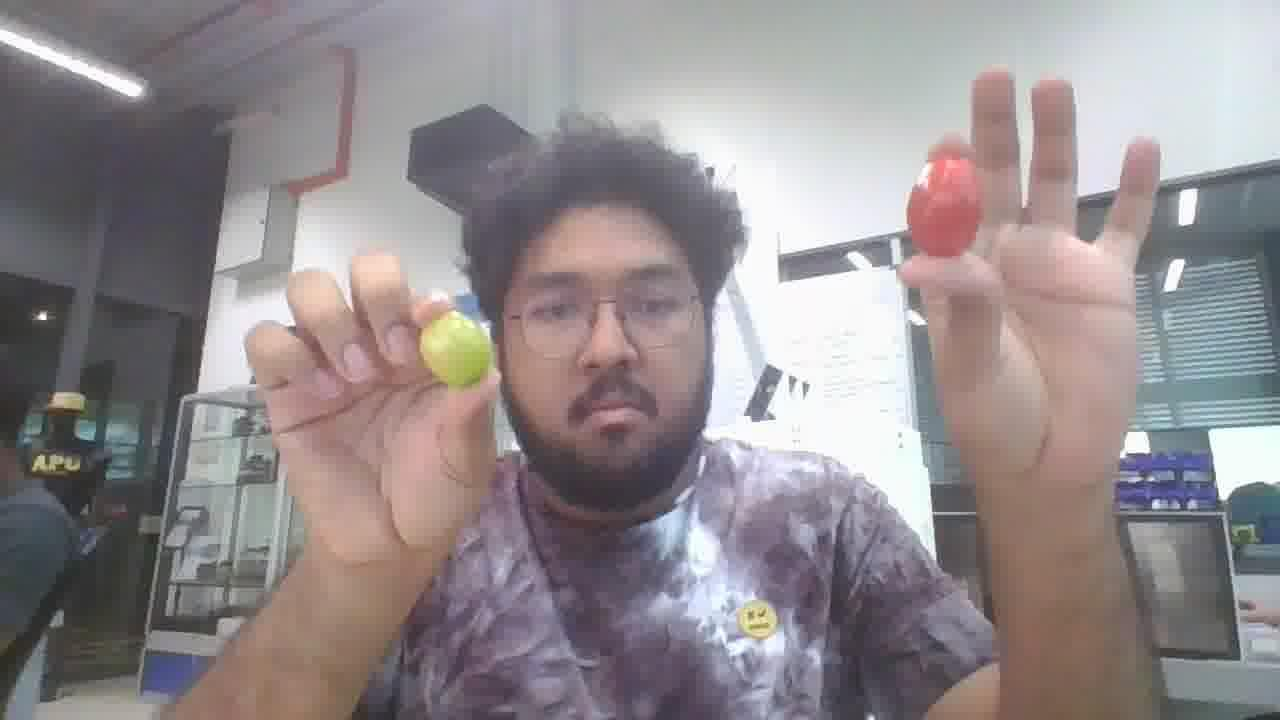green_cherry_tomato: (419, 310, 492, 387)
red_cherry_tomato: (906, 151, 981, 257)
